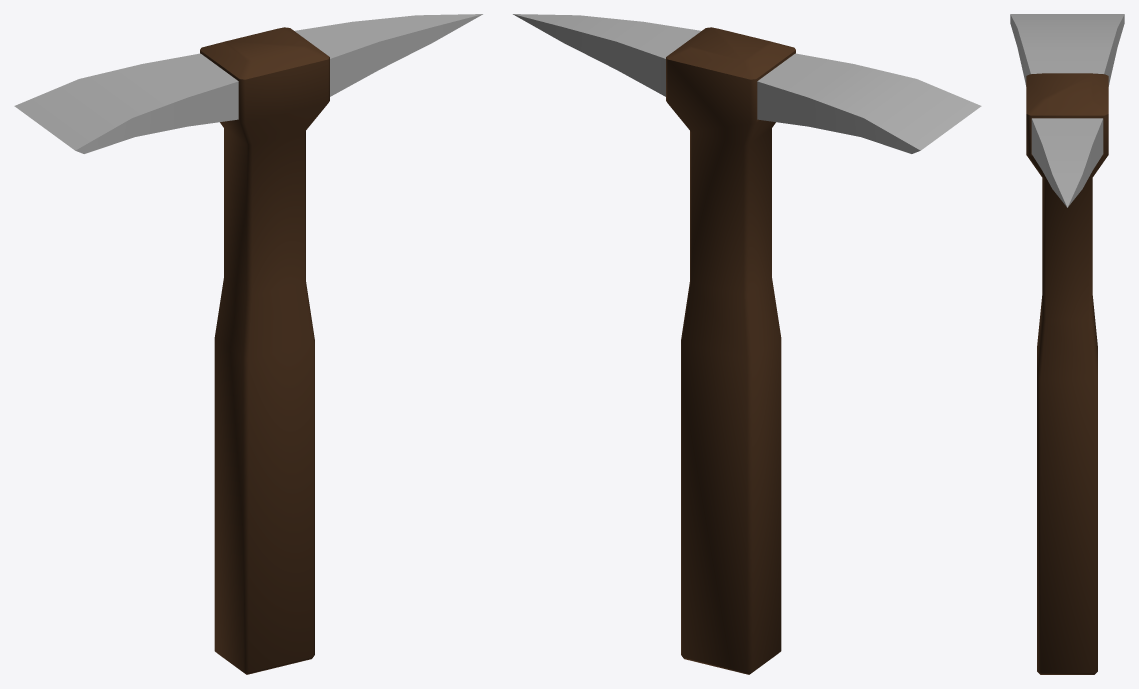
File: mattock.fbx
3 views of the same model, side by side, from view 1: azimuth 30°, elevation 25°; view 2: azimuth 150°, elevation 25°; view 3: azimuth 270°, elevation 25° (orthographic). The views are drawn at different scales.
Visible parts, largest first — view 1: mattock_beveled; view 2: mattock_beveled; view 3: mattock_beveled.
Part boxes in pixels (x1,y1,x2,y2): mattock_beveled: [14, 14, 482, 674]; mattock_beveled: [513, 14, 981, 674]; mattock_beveled: [1010, 14, 1124, 674].
Bounding box in the file's own units: 36.67 × 48.81 × 8.82.
